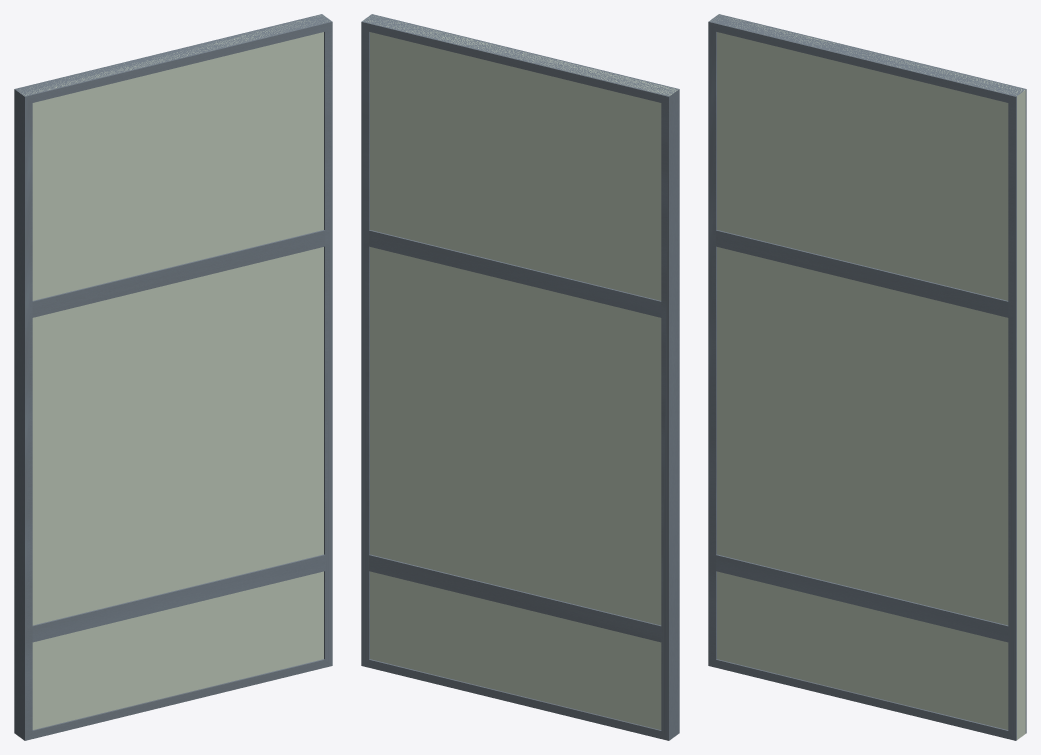
File: ParedVentanaDoble.fbx
3 renders of one model, left to right at view 1: azimuth 30°, elevation 25°; view 2: azimuth 150°, elevation 25°; view 3: azimuth 330°, elevation 25°, orthographic.
Parts seen in each view (by area): view 1: ParedVentana; view 2: ParedVentana; view 3: ParedVentana.
Part boxes in pixels (box(x1,y1,x2,y2)): ParedVentana: box(14, 14, 332, 740); ParedVentana: box(361, 14, 679, 740); ParedVentana: box(708, 14, 1026, 740).
Size of the model in its own units: 200 by 400 by 12.
